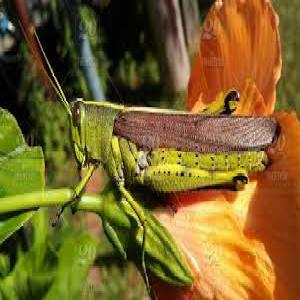locust: (38, 55, 290, 228)
